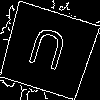U: (23, 25, 70, 80)
